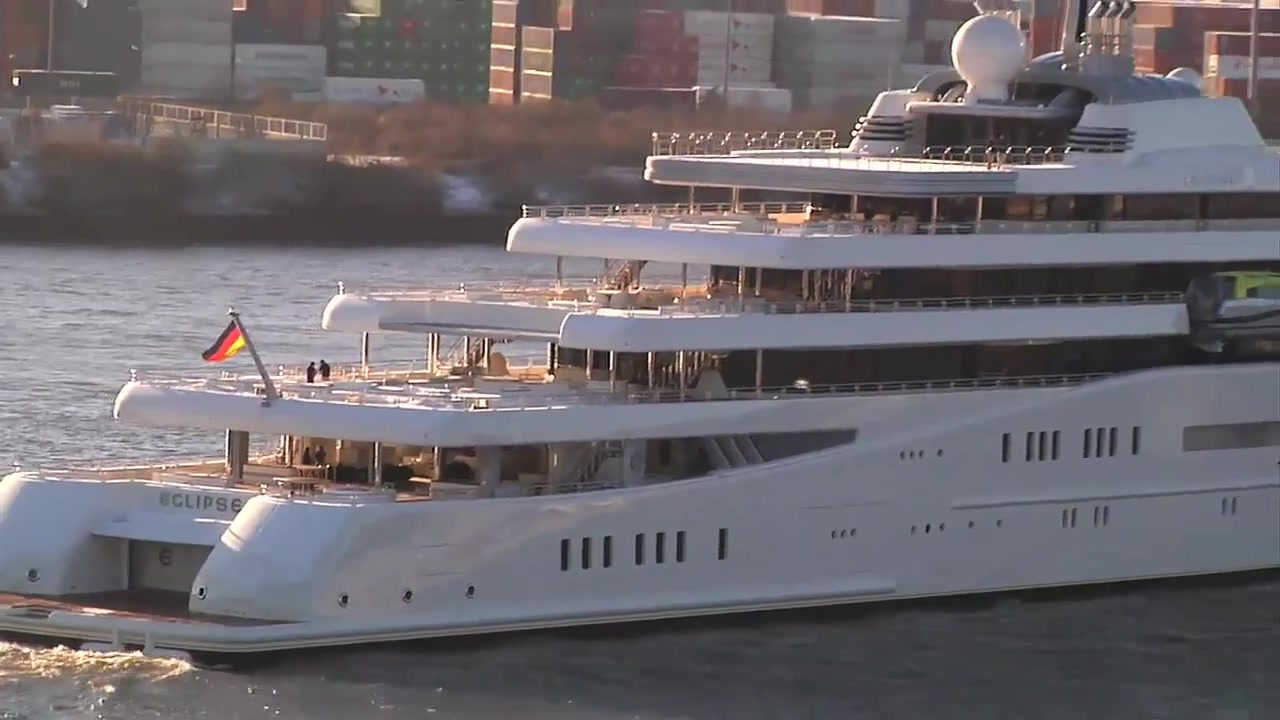boat: (1, 1, 1280, 679)
